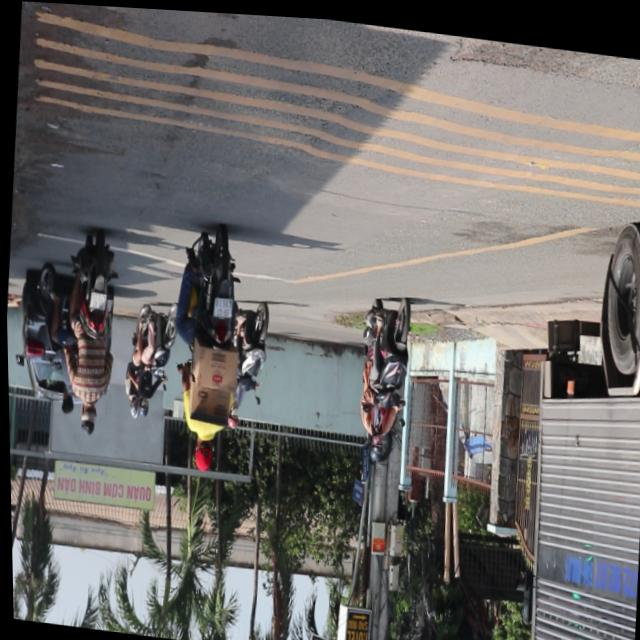helmet: (366, 430, 382, 460)
licenseplate: (162, 221, 251, 477), (56, 229, 125, 441), (350, 286, 417, 464)
motorcyclist: (191, 434, 214, 472), (76, 402, 97, 438)
nohelmet: (212, 294, 231, 316), (88, 291, 105, 309)
